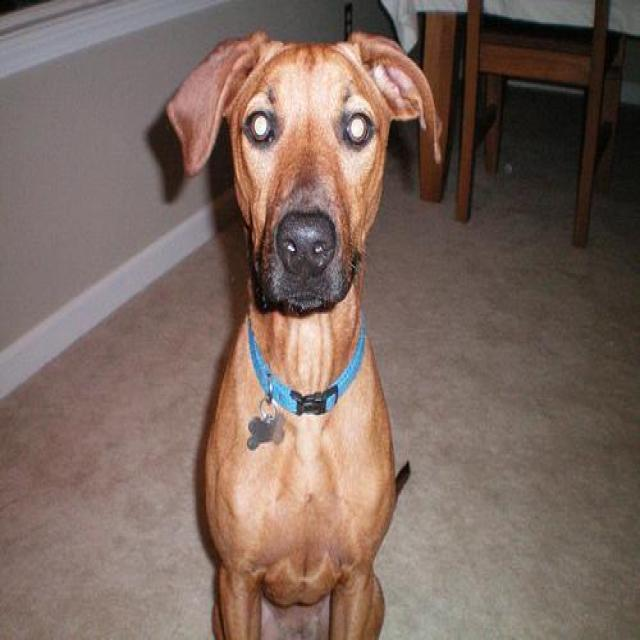sitting: (160, 24, 456, 640)
